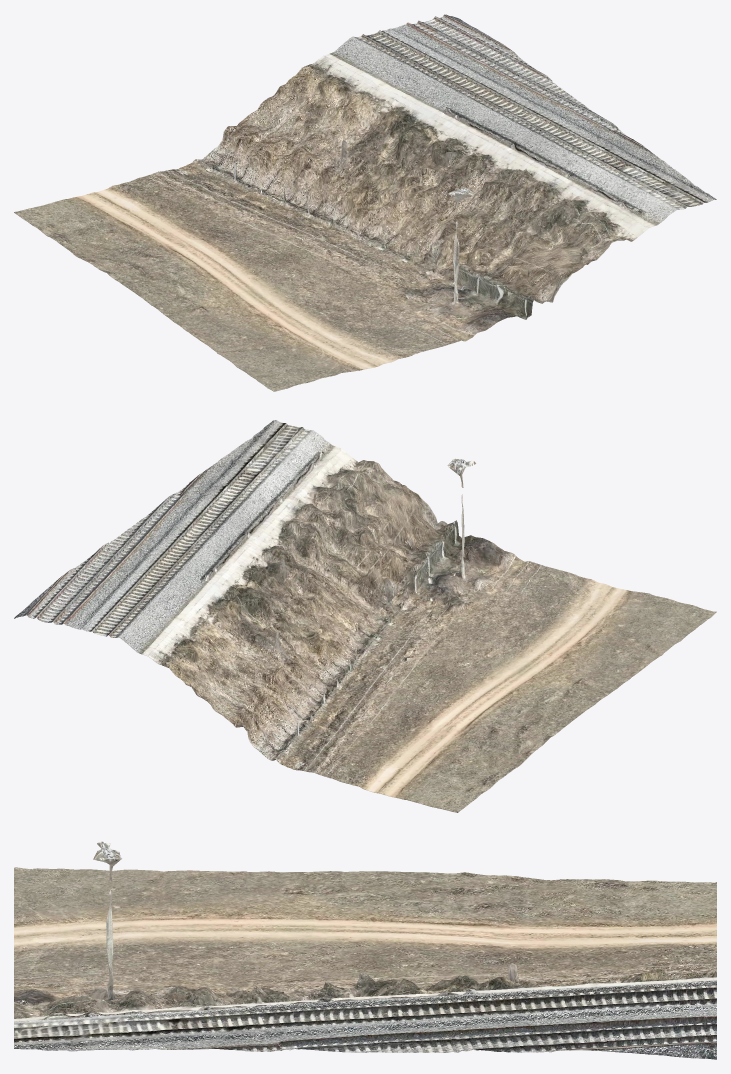
The model's file is Block_L20_449.glb.
The picture shows the model from 3 angles, top to bottom: view 1: azimuth 30°, elevation 25°; view 2: azimuth 150°, elevation 25°; view 3: azimuth 270°, elevation 25°; orthographic projection. The views are drawn at different scales.
Parts seen in each view (by area): view 1: rtc; view 2: rtc; view 3: rtc.
Boxes of the visible parts, x1,y1,x2,y2 form: rtc: [14, 14, 716, 391]; rtc: [14, 420, 716, 812]; rtc: [14, 841, 716, 1059].
Size of the model in its own units: 40.51 by 11.78 by 41.01.
4 materials, 4 textured.
